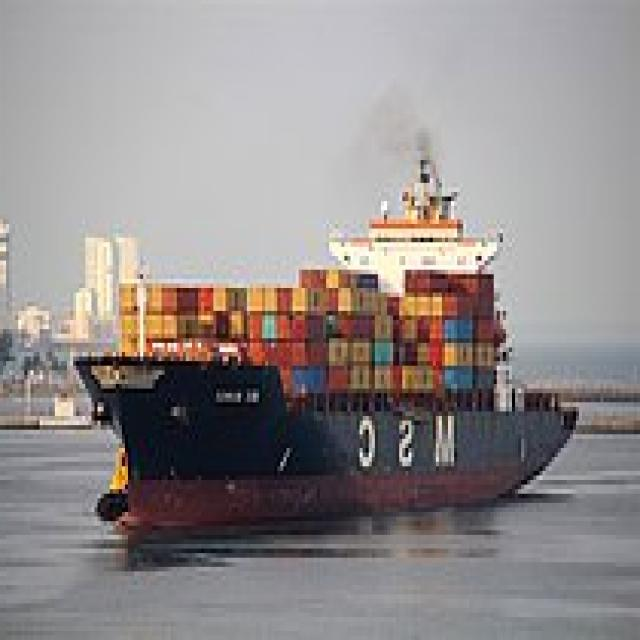Cargo: (73, 132, 585, 535)
